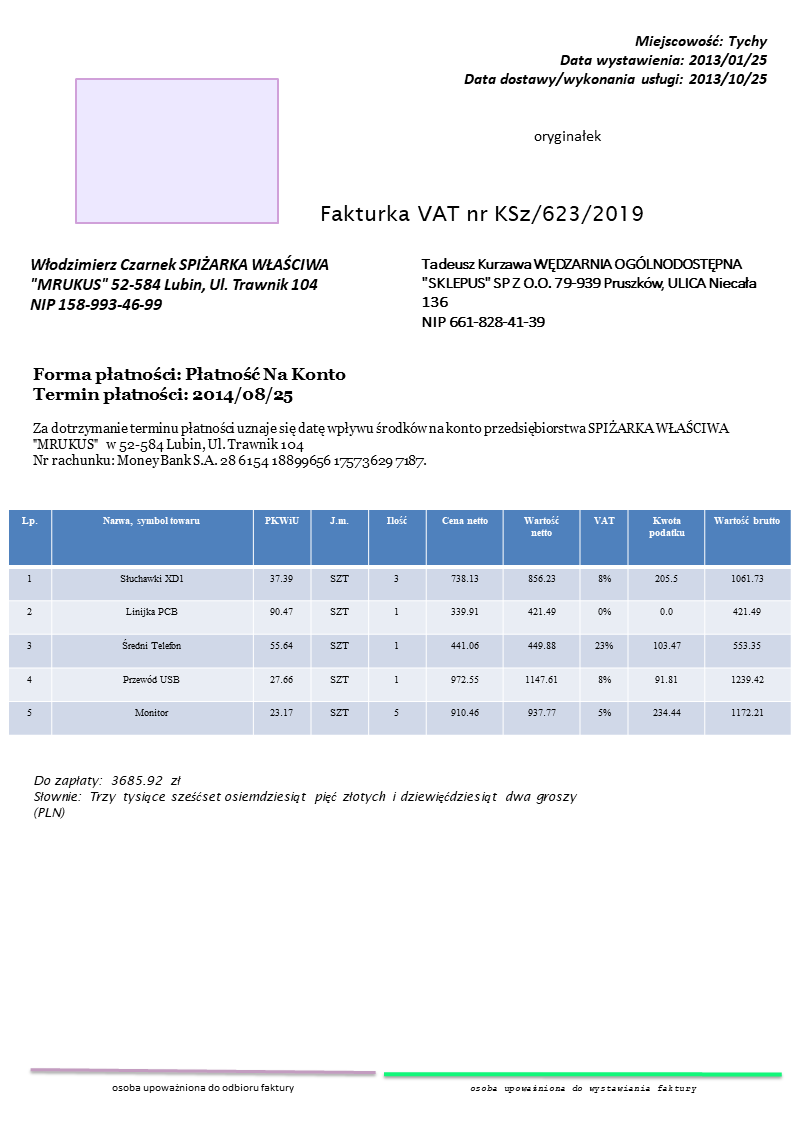Table: (7, 508, 794, 735)
TextBox: (30, 419, 731, 471), (29, 771, 578, 822), (418, 254, 759, 331), (459, 29, 769, 92), (26, 254, 332, 314), (29, 364, 350, 406), (317, 199, 646, 227), (467, 1080, 697, 1098), (108, 1078, 297, 1096), (533, 128, 603, 146)
